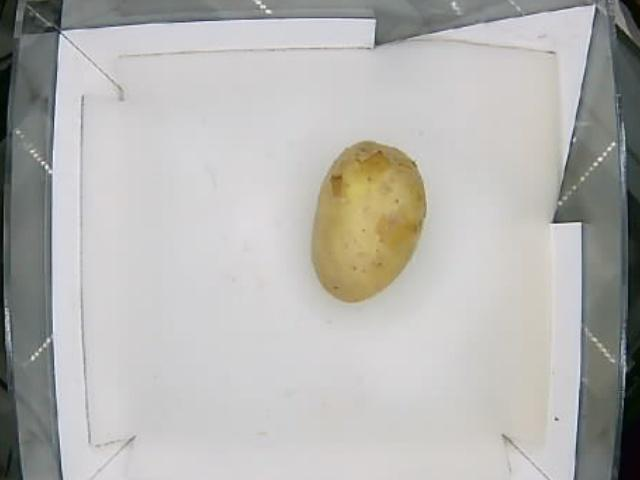Potato: (314, 141, 427, 305)
